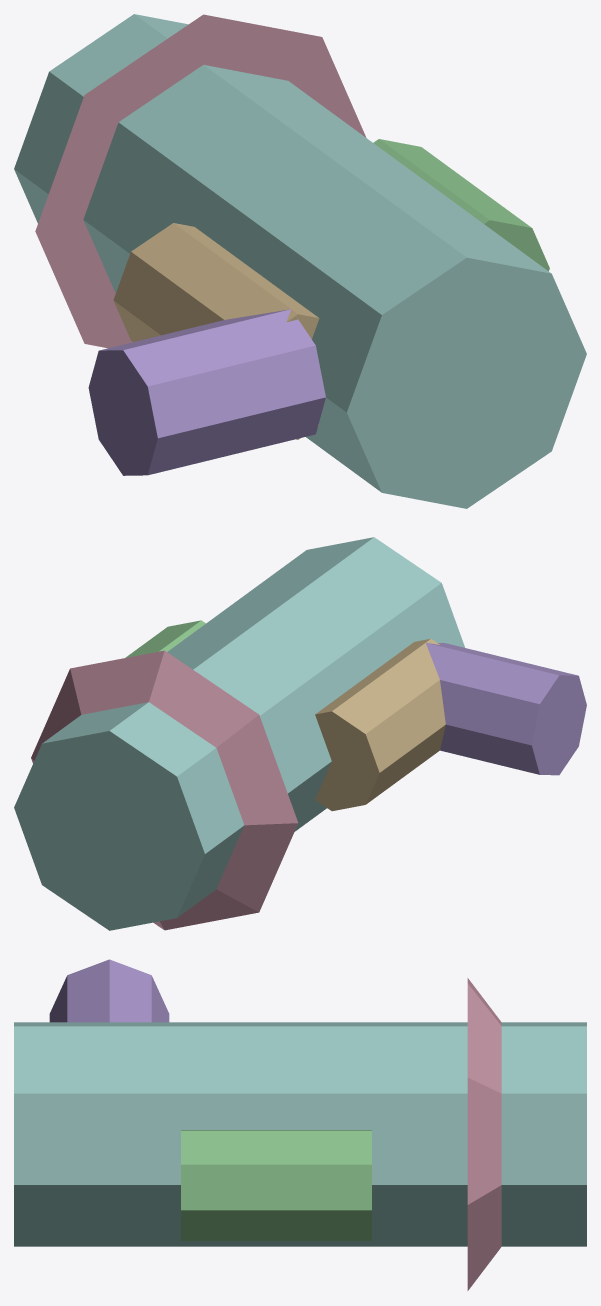
The picture shows the model from 3 angles, top to bottom: view 1: azimuth 30°, elevation 25°; view 2: azimuth 150°, elevation 25°; view 3: azimuth 270°, elevation 25°; orthographic projection. The views are drawn at different scales.
Parts seen in each view (by area): view 1: part0, part2, part4, part1, part3; view 2: part0, part4, part2, part1, part3; view 3: part0, part3, part4, part2.
Boxes of the visible parts, x1,y1,x2,y2 form: part0: (14, 14, 586, 508); part2: (88, 309, 325, 475); part4: (35, 14, 366, 348); part1: (113, 223, 319, 439); part3: (373, 139, 549, 271); part0: (14, 537, 464, 930); part4: (31, 650, 298, 930); part2: (426, 643, 586, 775); part1: (315, 638, 445, 811); part3: (125, 620, 205, 657); part0: (14, 1022, 586, 1246); part3: (181, 1130, 371, 1240); part4: (467, 978, 501, 1290); part2: (49, 959, 169, 1022).
Bounding box in the file's own units: 1.95 × 1.4 × 2.4.
